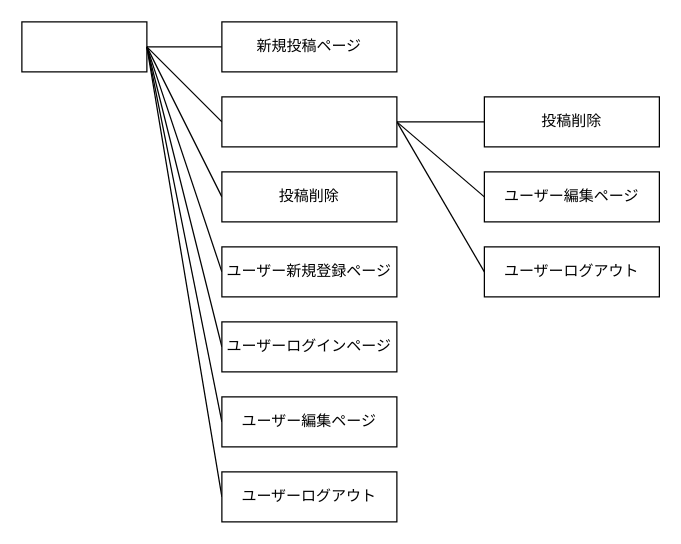
This 681x544 diagram has some shape labels left out. The box of each missing label's shape, as (x1, y1, x2, y2) in pixels:
トップページ: (21, 21, 147, 72)
投稿詳細ページ: (221, 96, 397, 147)
